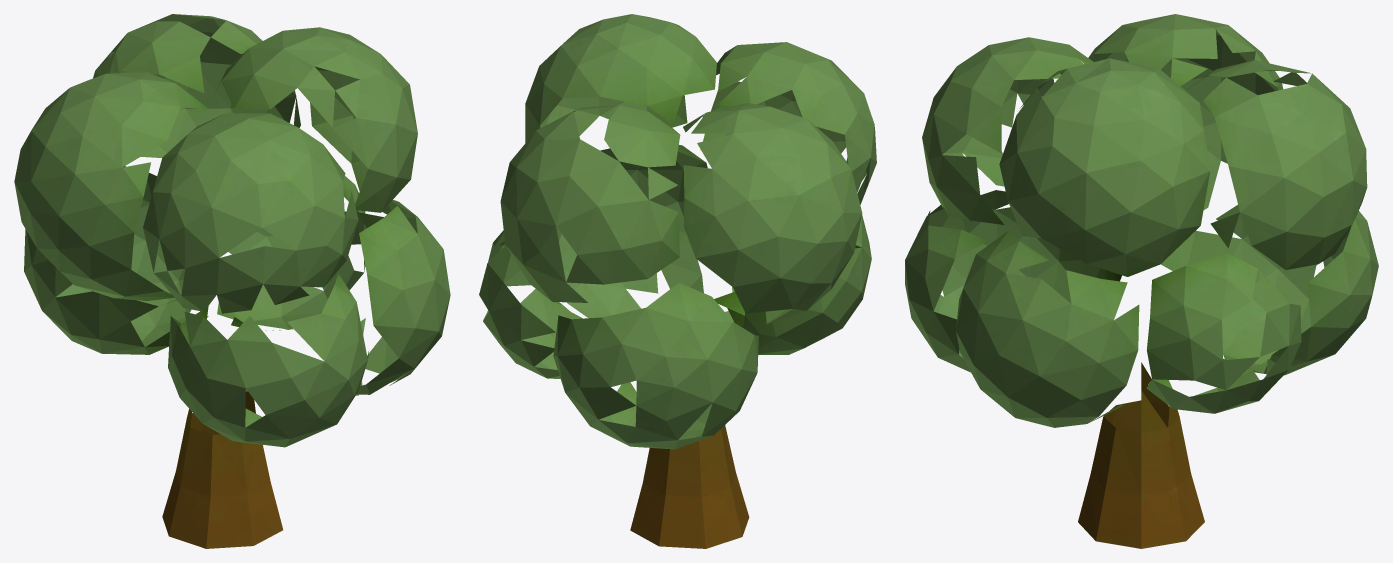
The model's file is shrub_LOD1.glb.
3 views of the same model, side by side, from view 1: azimuth 30°, elevation 25°; view 2: azimuth 150°, elevation 25°; view 3: azimuth 270°, elevation 25° (orthographic). The views are drawn at different scales.
Parts seen in each view (by area): view 1: shrub_LOD1; view 2: shrub_LOD1; view 3: shrub_LOD1.
Part boxes in pixels (x1=…): shrub_LOD1: x1=14, y1=14, x2=450, y2=548; shrub_LOD1: x1=479, y1=14, x2=876, y2=548; shrub_LOD1: x1=905, y1=14, x2=1378, y2=548.
Size of the model in its own units: 0.7691 by 1 by 0.8747.
1 material, 1 textured.
